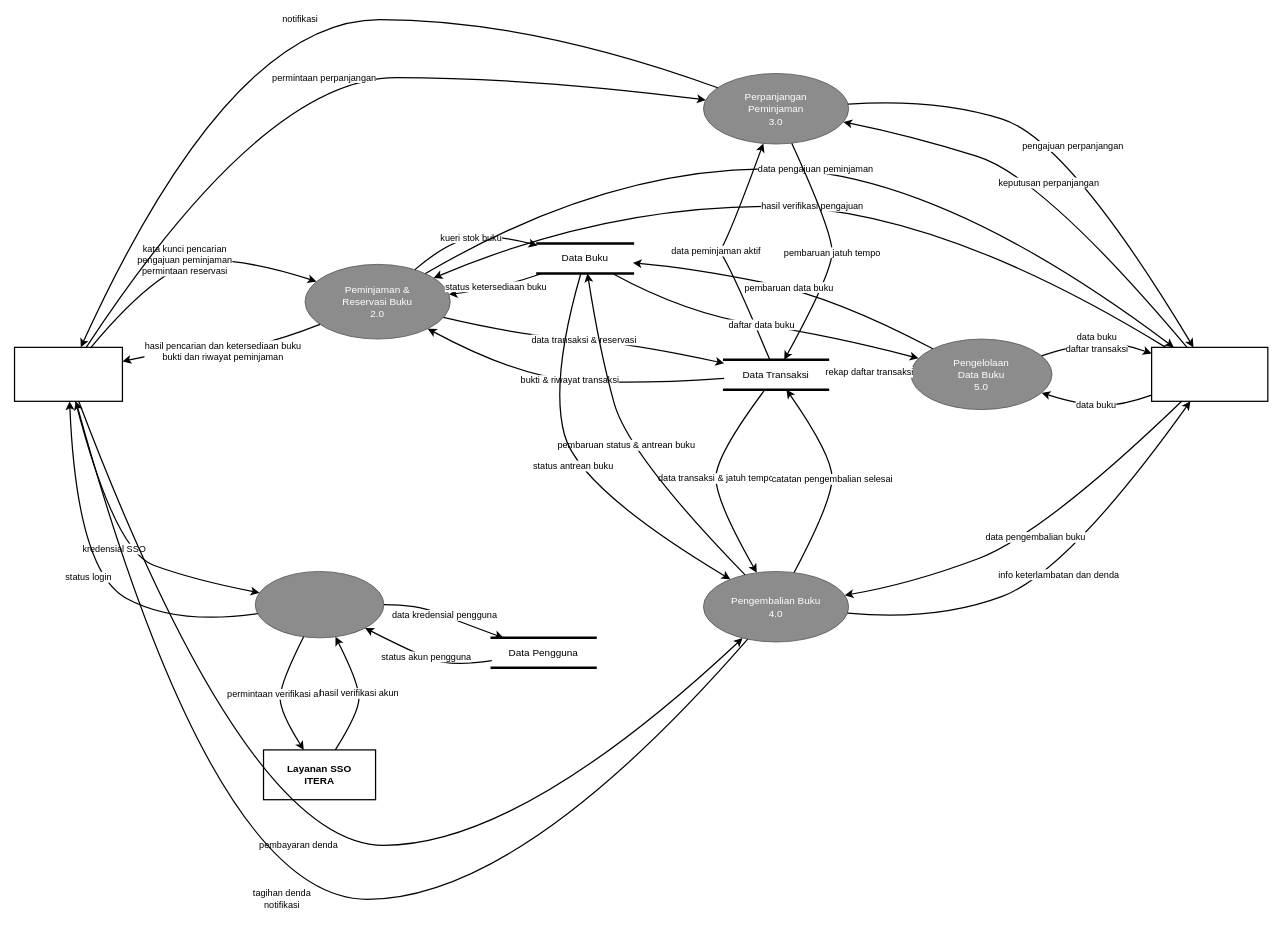
The diagram is 1283 pixels wide and 925 high, and some of its shapes have lost their labels. Here are the shapes that lost their labels. From the top down, the box of each, then its label:
(14, 346, 123, 402): Pengguna (Mahasiswa)
(1151, 346, 1268, 402): Petugas Perpustakaan
(254, 571, 384, 638): Login SSO 1.0
